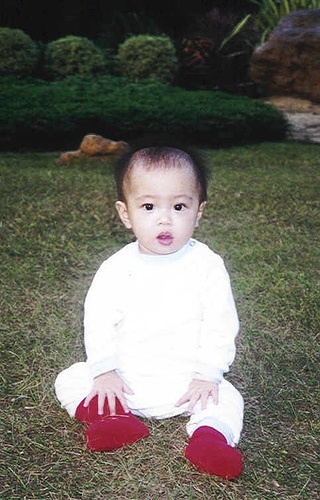head: (114, 144, 211, 255)
person: (51, 136, 253, 485)
